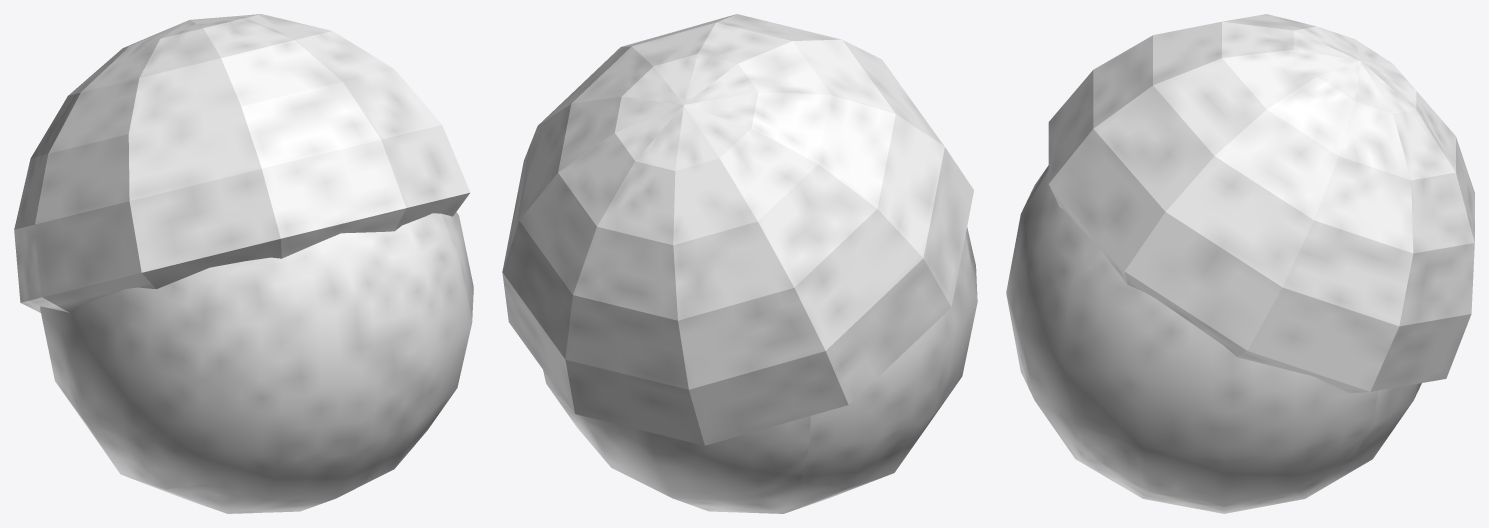
The model's file is PlayerCharacter.fbx.
The picture shows the model from 3 angles, left to right: view 1: azimuth 30°, elevation 25°; view 2: azimuth 150°, elevation 25°; view 3: azimuth 270°, elevation 25°; orthographic projection. The views are drawn at different scales.
Visible parts, largest first — view 1: Crook2; view 2: Crook2; view 3: Crook2.
Part boxes in pixels (box(x1,y1,x2,y2)): Crook2: box(14, 14, 473, 513); Crook2: box(502, 14, 977, 513); Crook2: box(1006, 14, 1474, 513).
Bounding box in the file's own units: 1.44 × 1.5 × 1.42.
